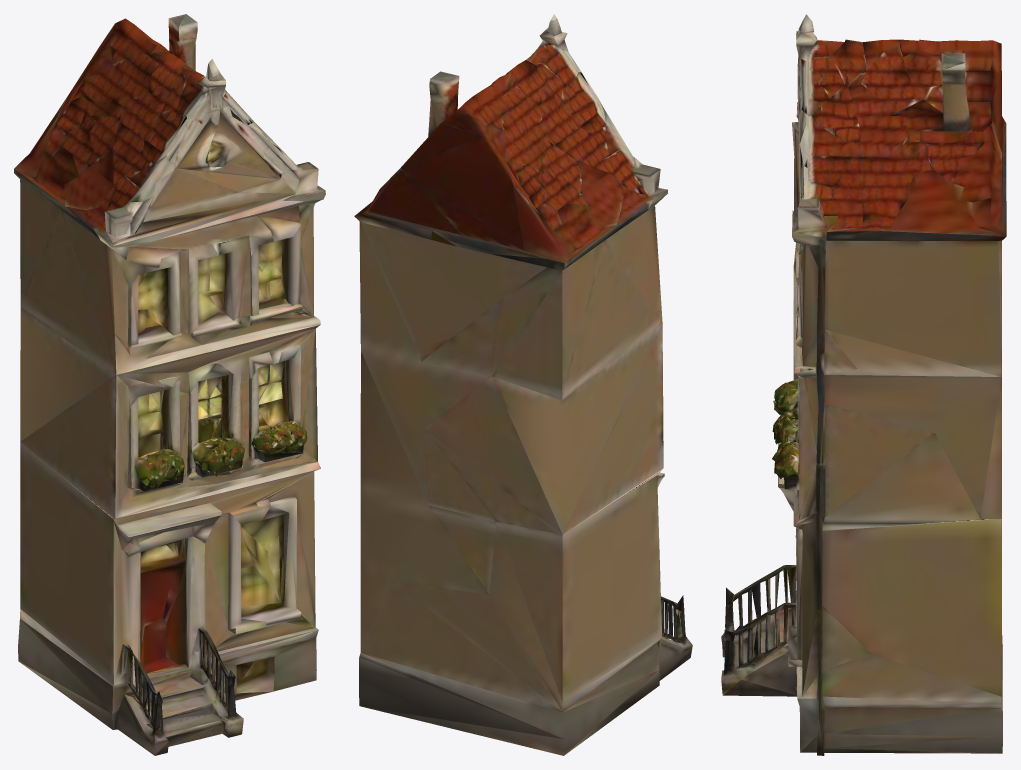
File: getkong-haus8.glb
The picture shows the model from 3 angles, left to right: view 1: azimuth 30°, elevation 25°; view 2: azimuth 150°, elevation 25°; view 3: azimuth 270°, elevation 25°; orthographic projection. The views are drawn at different scales.
Parts seen in each view (by area): view 1: output_unwrapped; view 2: output_unwrapped; view 3: output_unwrapped.
Part boxes in pixels (left/top/right/bottom): output_unwrapped: left=14, top=14, right=325, bottom=755; output_unwrapped: left=354, top=14, right=692, bottom=755; output_unwrapped: left=721, top=14, right=1006, bottom=755.
Bounding box in the file's own units: 0.6691 × 1.9 × 0.7172.
Materials: 1 (1 with a texture image).
